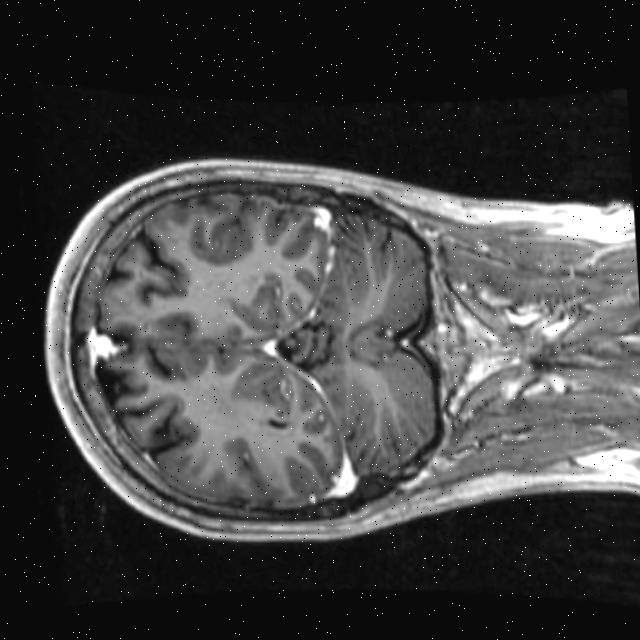NoTumor: (31, 135, 444, 566)
